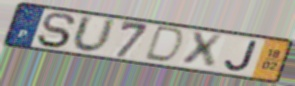7: (116, 19, 150, 60)
D: (141, 25, 187, 65)
J: (222, 39, 261, 73)
S: (34, 11, 78, 50)
U: (70, 13, 119, 55)
X: (180, 31, 225, 71)
